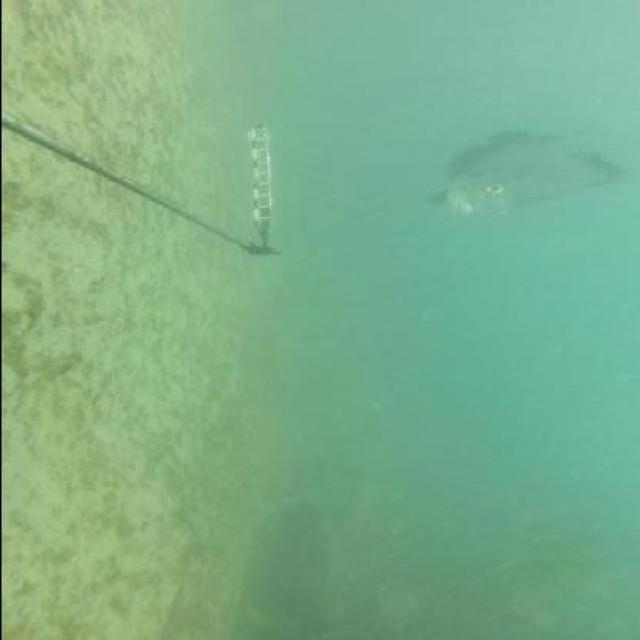acanthopagrus_palmaris: (418, 129, 630, 220)
